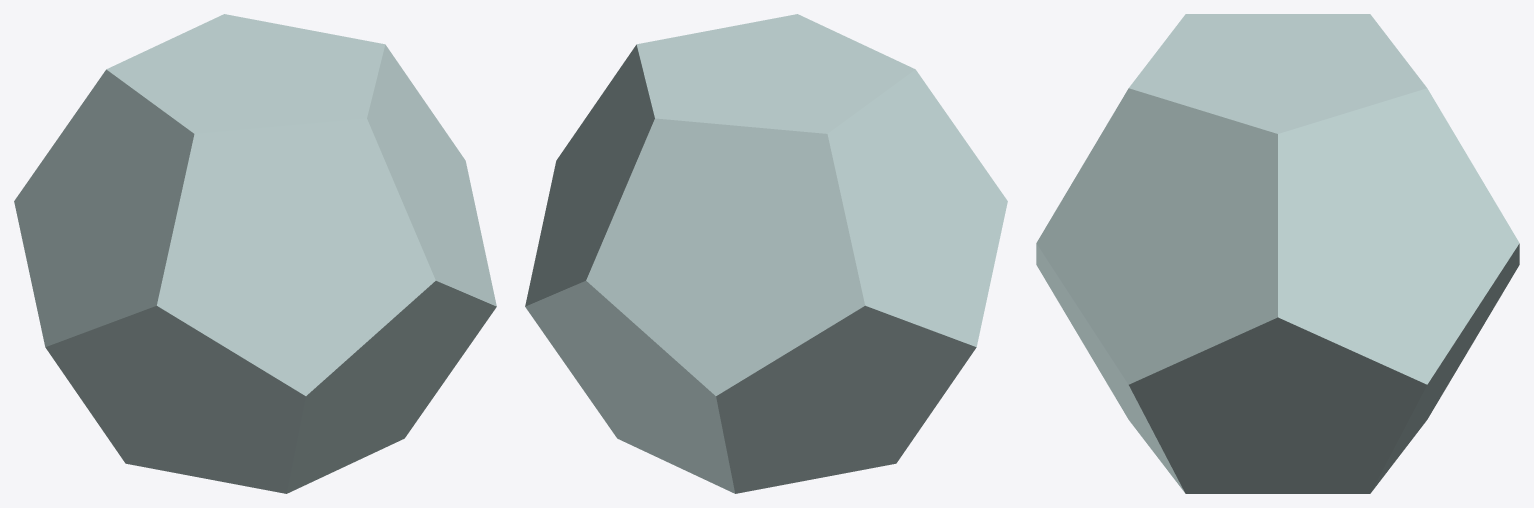
File: dodekaedar.glb
The picture shows the model from 3 angles, left to right: view 1: azimuth 30°, elevation 25°; view 2: azimuth 150°, elevation 25°; view 3: azimuth 270°, elevation 25°; orthographic projection. The views are drawn at different scales.
Bounding box in the file's own units: 27.53 × 22.27 × 26.18.
